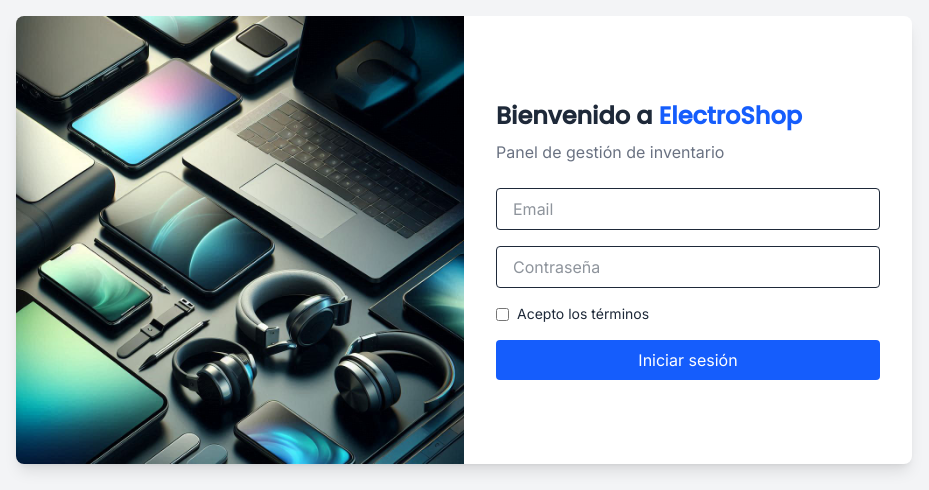
Scenario: muestra error si no se aceptan los términos
Type "admin@test.com" into the field with placeholder "Email" at coordinates (688, 209), box [496,188,880,230]
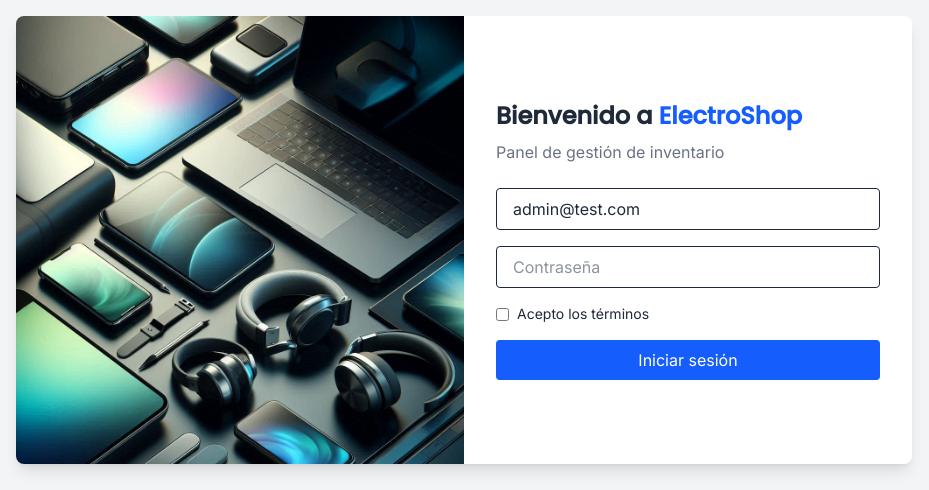
Type "1234" into the password field with placeholder "Contraseña" at coordinates (688, 267), box [496,246,880,288]
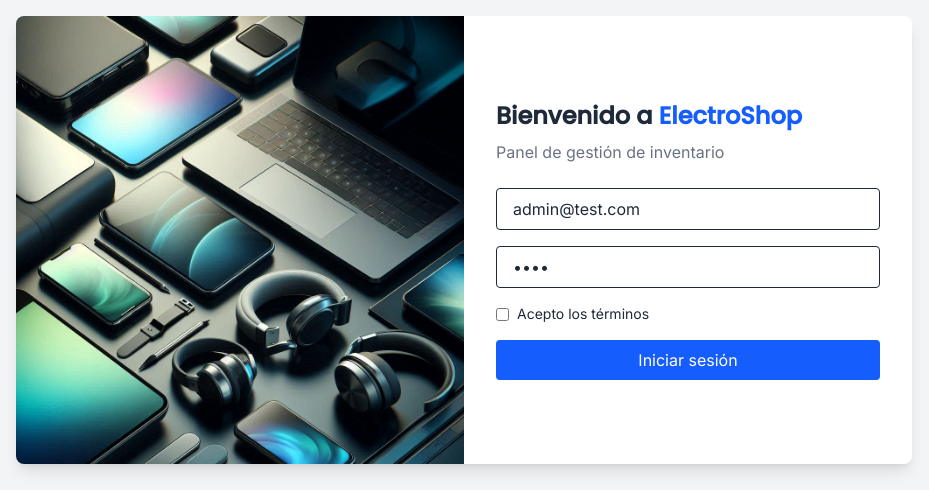
Click the button "Iniciar sesión" at coordinates (688, 360), box [496,340,880,380]
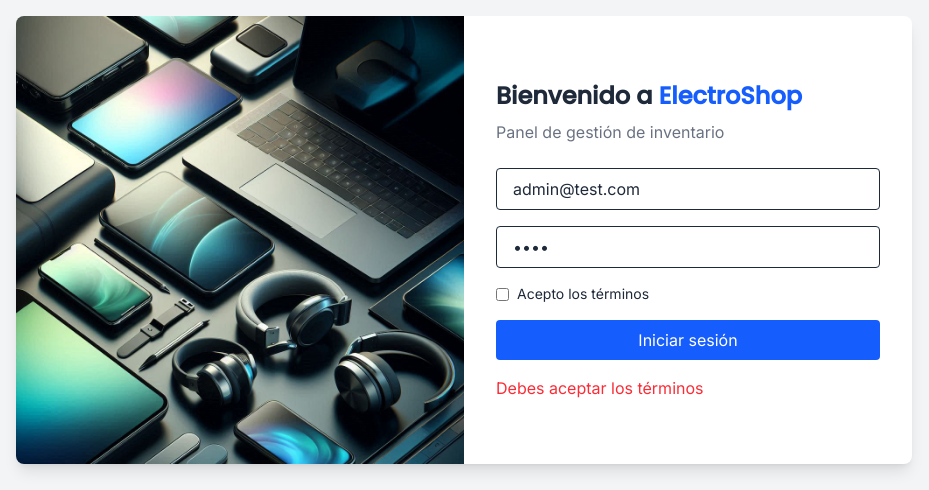
Expected: the text "Debes aceptar los términos" is shown, [496,378,704,398]
